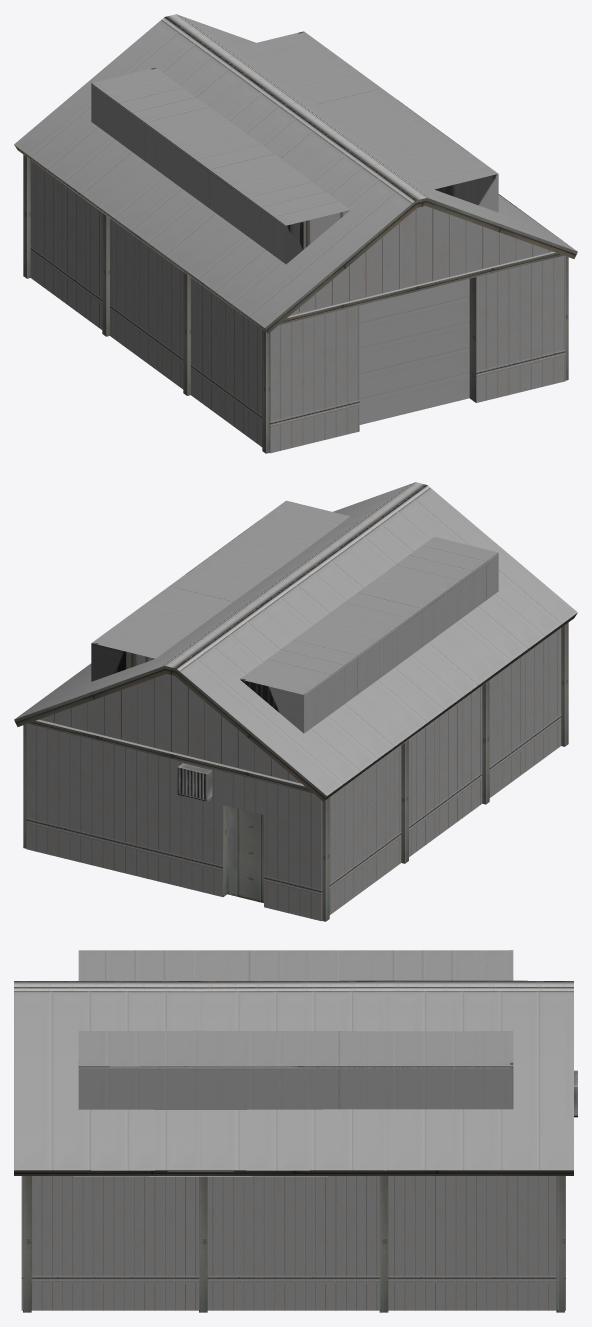
File: dz_industrial_29.fbx
3 views of the same model, one above another, from view 1: azimuth 30°, elevation 25°; view 2: azimuth 150°, elevation 25°; view 3: azimuth 270°, elevation 25° (orthographic). The views are drawn at different scales.
Parts seen in each view (by area): view 1: dz_industrial_29_LOD0; view 2: dz_industrial_29_LOD0; view 3: dz_industrial_29_LOD0.
Part boxes in pixels (box(x1,y1,x2,y2)): dz_industrial_29_LOD0: box(14, 14, 577, 453); dz_industrial_29_LOD0: box(14, 482, 577, 921); dz_industrial_29_LOD0: box(14, 950, 577, 1312).
Size of what is drawn, in the model's own units: 7.48 by 5.04 by 10.46.
